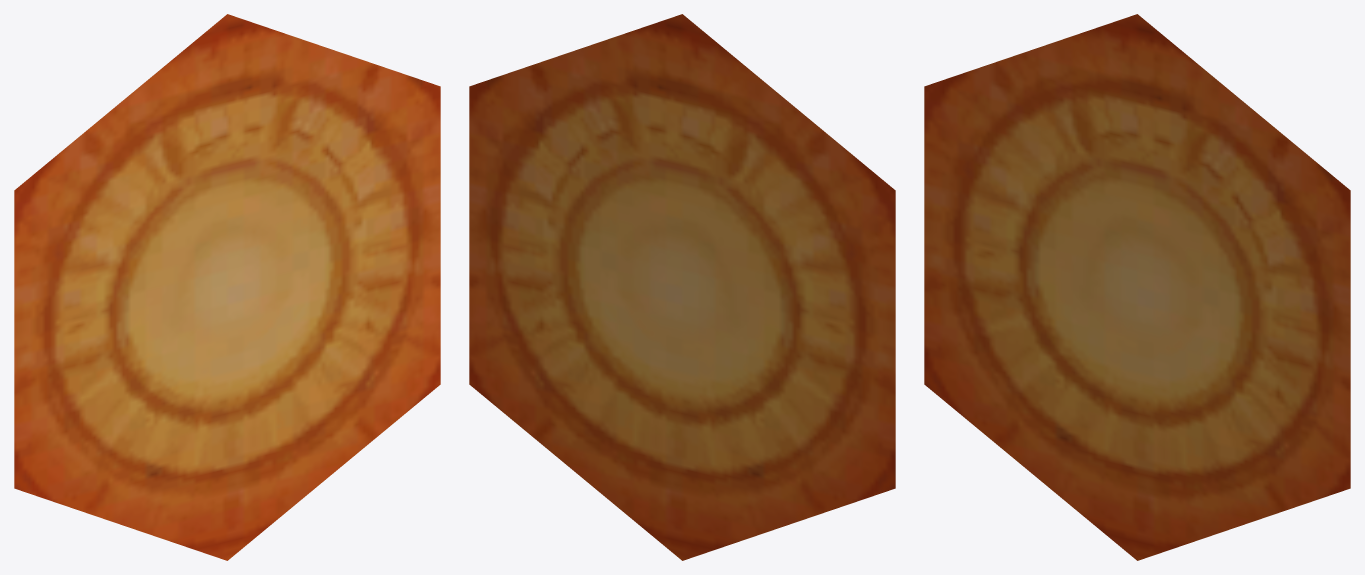
File: hutt_fighter_heavy_engine_s01_on_l2.fbx
3 renders of one model, left to right at view 1: azimuth 30°, elevation 25°; view 2: azimuth 150°, elevation 25°; view 3: azimuth 330°, elevation 25°, orthographic.
Parts seen in each view (by area): view 1: mesh_node; view 2: mesh_node; view 3: mesh_node.
Boxes of the visible parts, x1,y1,x2,y2 form: mesh_node: (14, 14, 440, 560); mesh_node: (469, 14, 895, 560); mesh_node: (924, 14, 1350, 560).
Size of the model in its own units: 3.32 by 4.08 by 0.
1 material, 1 textured.
